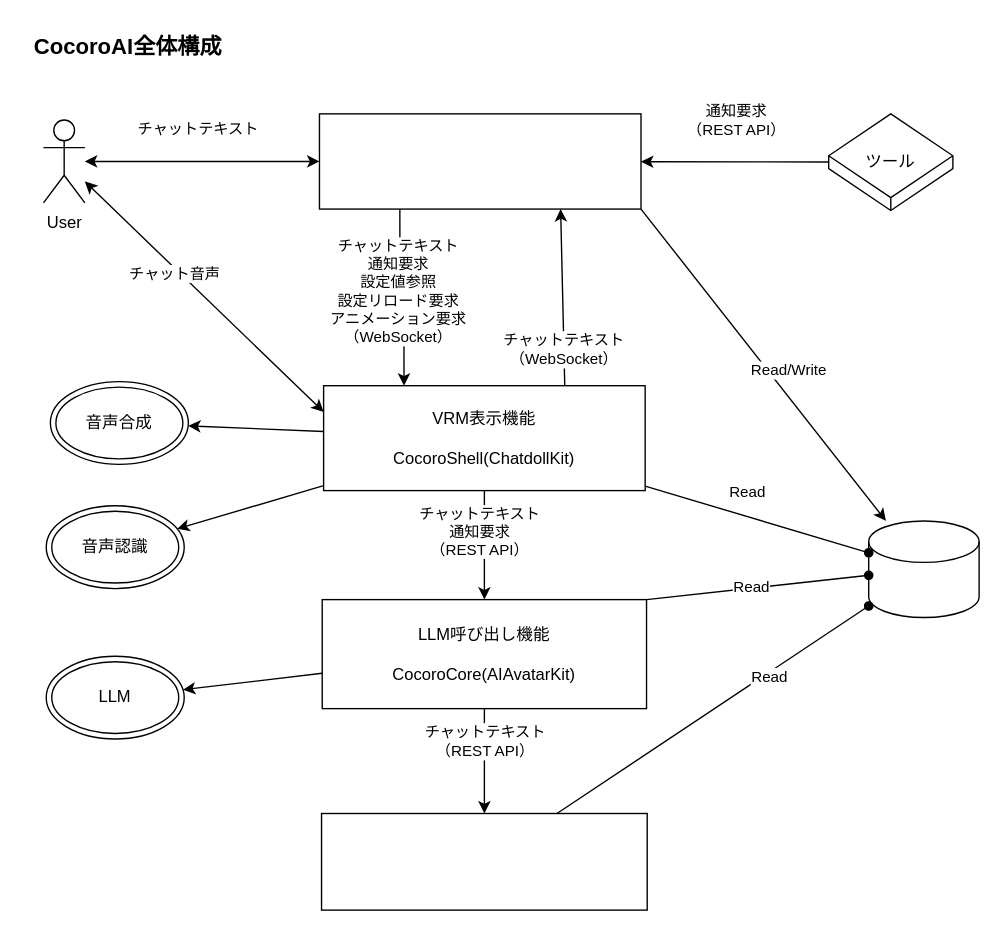
Some shapes in this 1003 by 934 pixel diagram are drawn without their labels. The centre of each missing label's shape, as x and y in pixels:
チャット & 設定画面 CocoroDock = CocoroAI.exe: the point at 479,160
記憶保持機能 CocoroMemory(chatmemory): the point at 483,861
設定値: the point at 923,569
